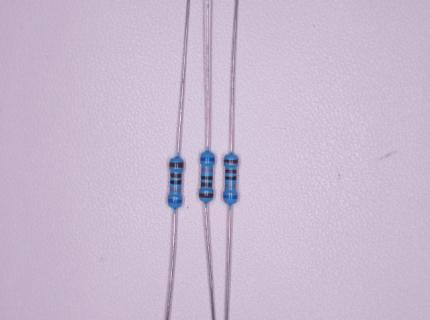Black band: (225, 176, 237, 181), (170, 180, 182, 185), (201, 176, 212, 180)
Blue band: (167, 199, 182, 204), (200, 157, 215, 162), (223, 194, 238, 199)
Brown band: (169, 162, 184, 168), (199, 192, 214, 198), (224, 159, 238, 164), (170, 173, 182, 178), (201, 182, 213, 187), (225, 169, 237, 174)
Grey band: (201, 168, 213, 172), (170, 188, 181, 192), (225, 185, 236, 189)
